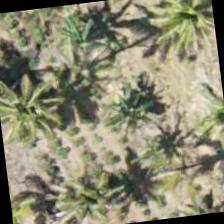Kelapa_Sawit: (0, 62, 79, 161), (39, 146, 139, 223), (135, 0, 219, 71)
